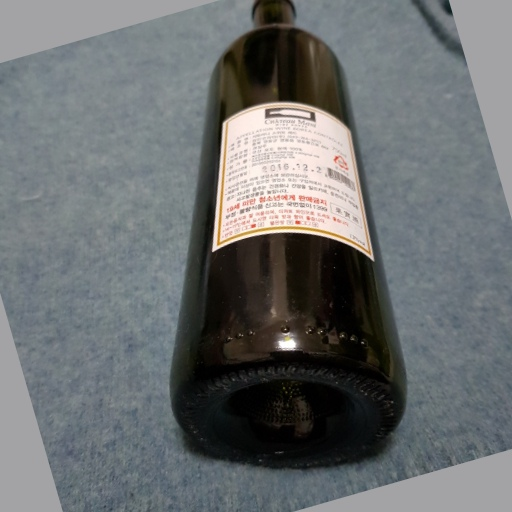Glass_2: (168, 1, 413, 467)
